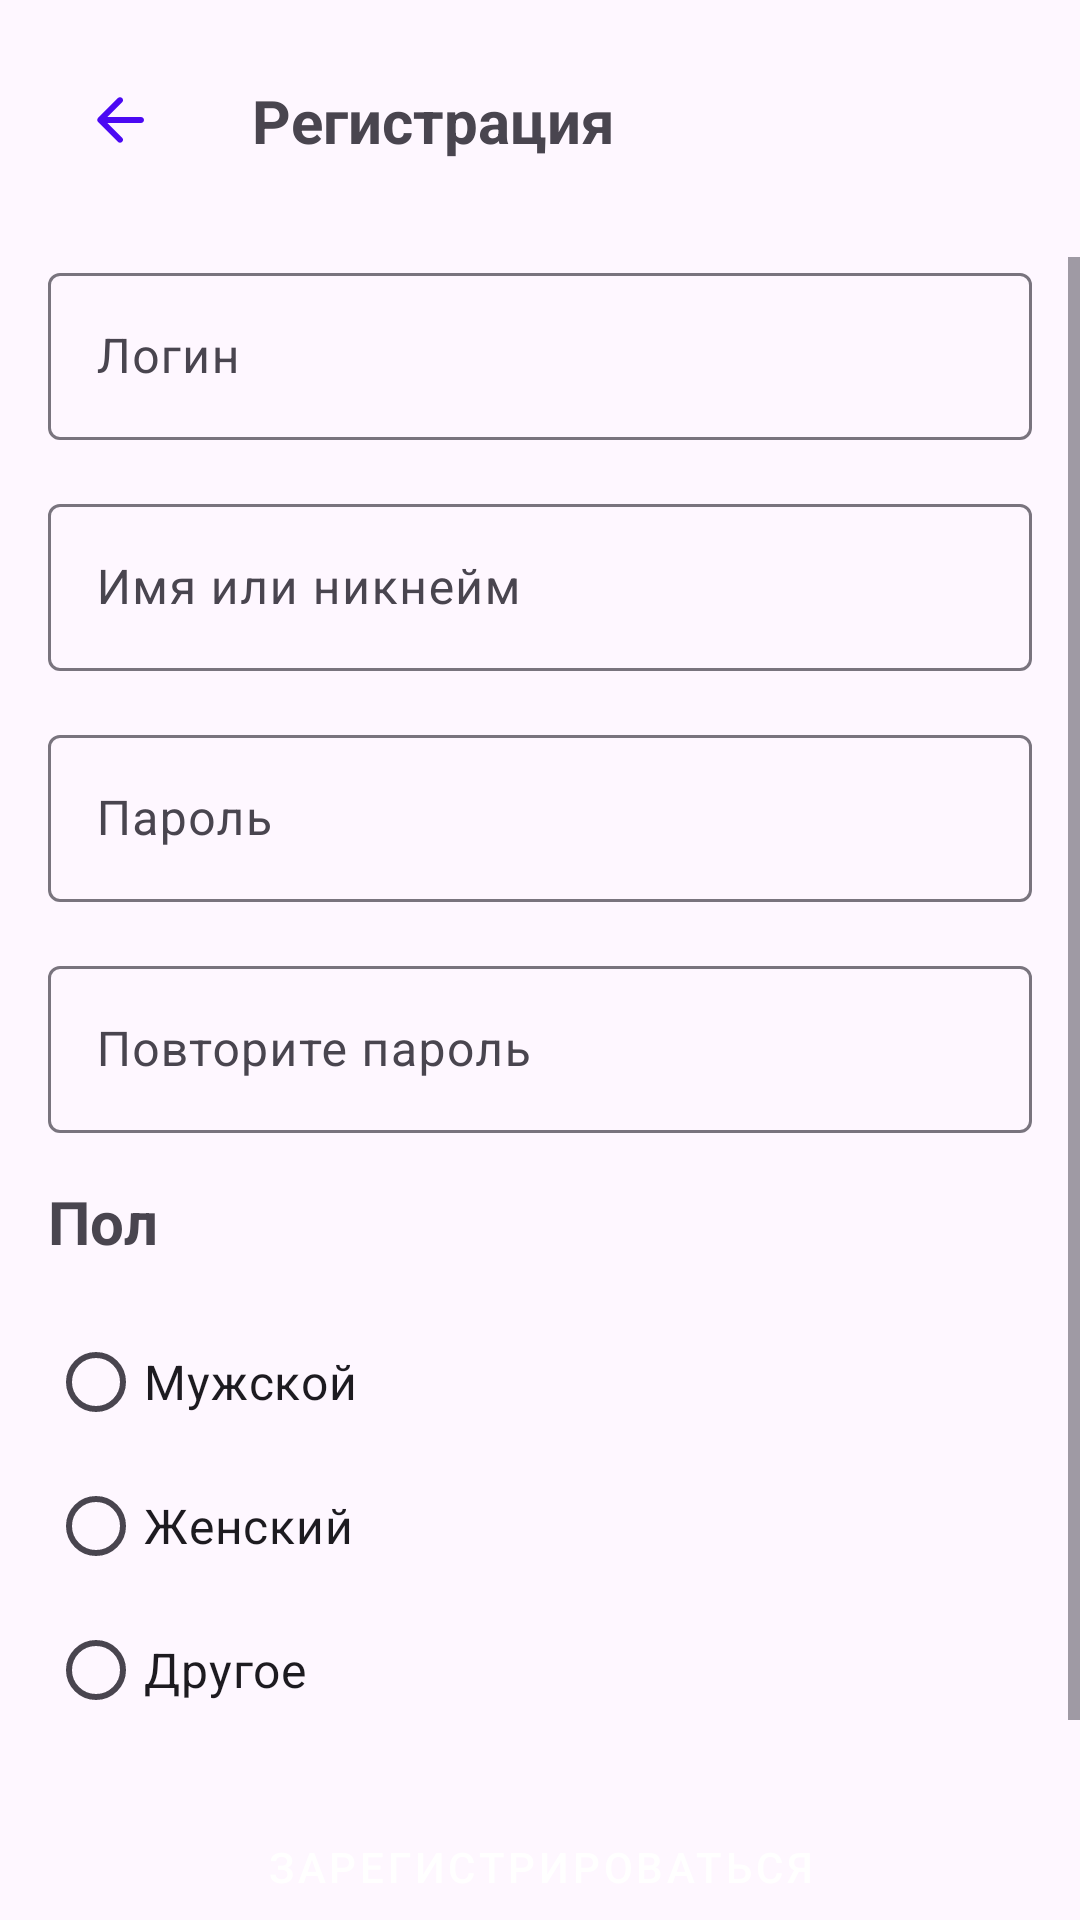

Where icons sit on this 1080x1920 app screen, as box=[x1, y1, x2, y2]:
arrow: box=[97, 97, 144, 143]
